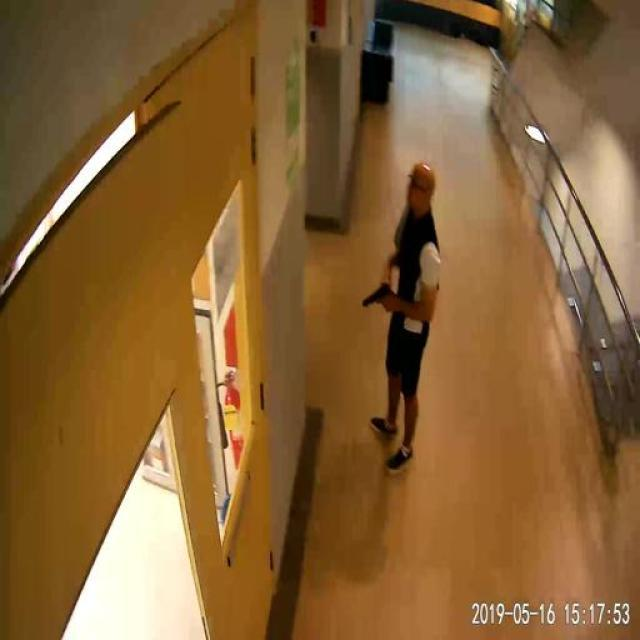Gun: (358, 269, 402, 328)
